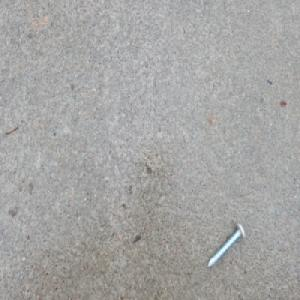Nail: (207, 218, 246, 267)
